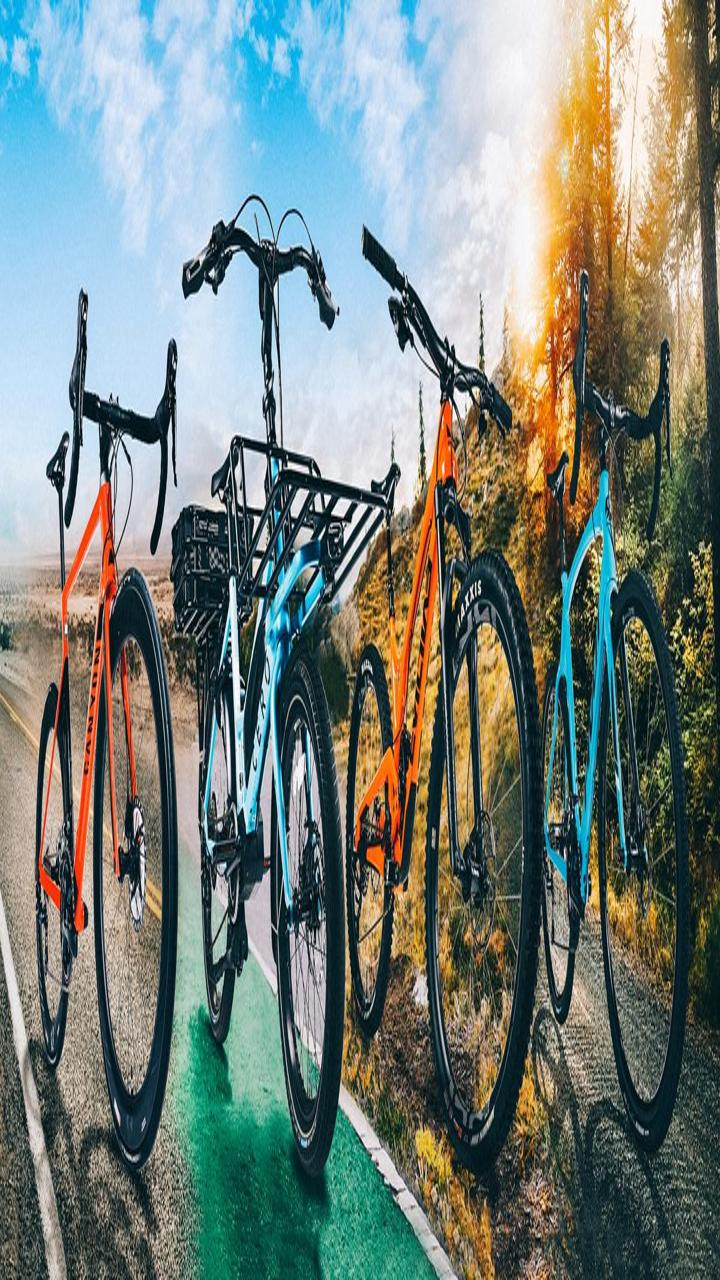bicycle: (351, 191, 539, 1156), (182, 199, 355, 1171), (16, 281, 201, 1170), (535, 228, 705, 1157)
